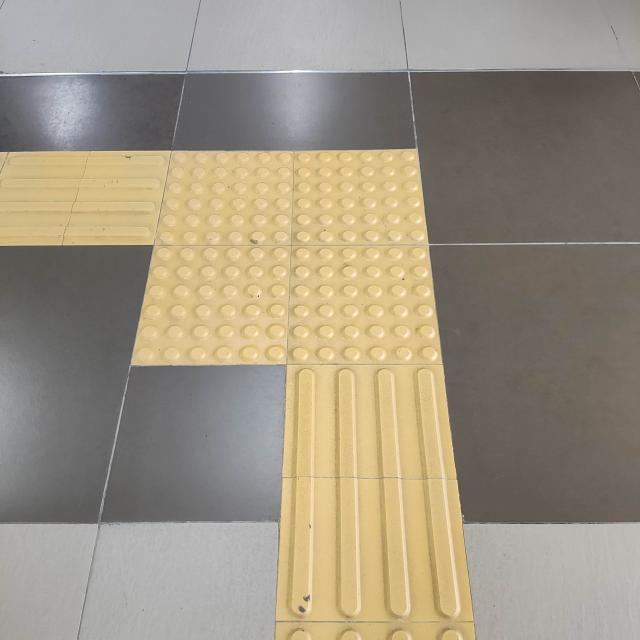kiri: (22, 102, 517, 493)
